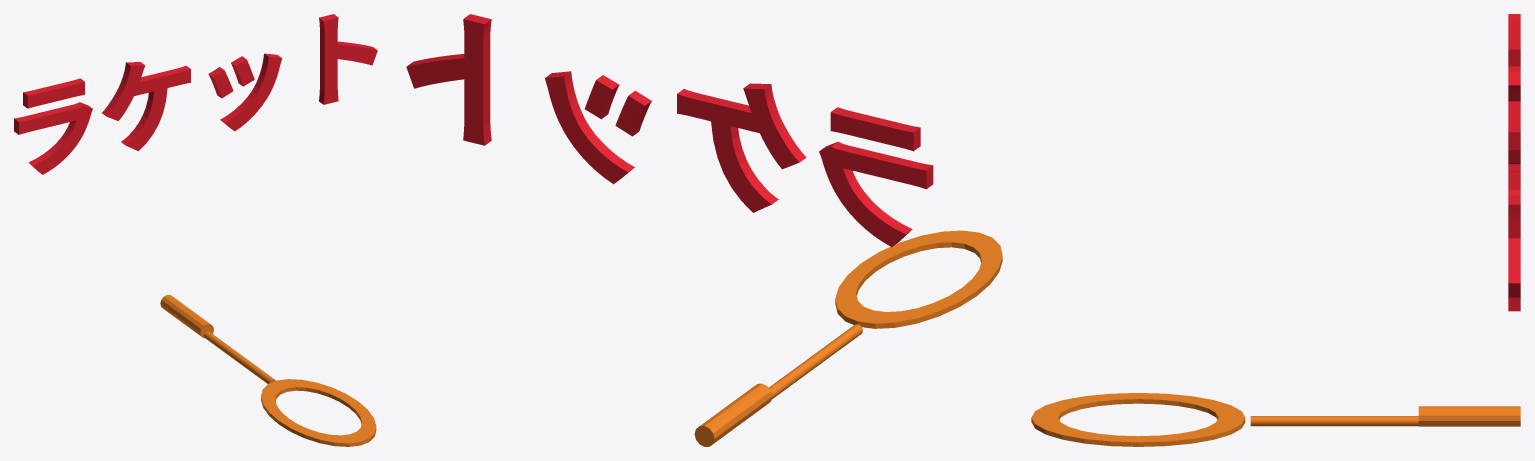
The model's file is tinker.obj.
3 renders of one model, left to right at view 1: azimuth 30°, elevation 25°; view 2: azimuth 150°, elevation 25°; view 3: azimuth 270°, elevation 25°, orthographic. The views are drawn at different scales.
Visible parts, largest first — view 1: group_0_15277357, group_0_16089887; view 2: group_0_15277357, group_0_16089887; view 3: group_0_16089887, group_0_15277357.
Part boxes in pixels (x1,y1,x2,y2): group_0_15277357: [14, 14, 377, 174]; group_0_16089887: [160, 295, 376, 446]; group_0_15277357: [406, 14, 933, 246]; group_0_16089887: [694, 230, 1002, 446]; group_0_16089887: [1031, 393, 1520, 446]; group_0_15277357: [1508, 14, 1520, 311].
Size of the model in its own units: 104 by 71.02 by 96.
